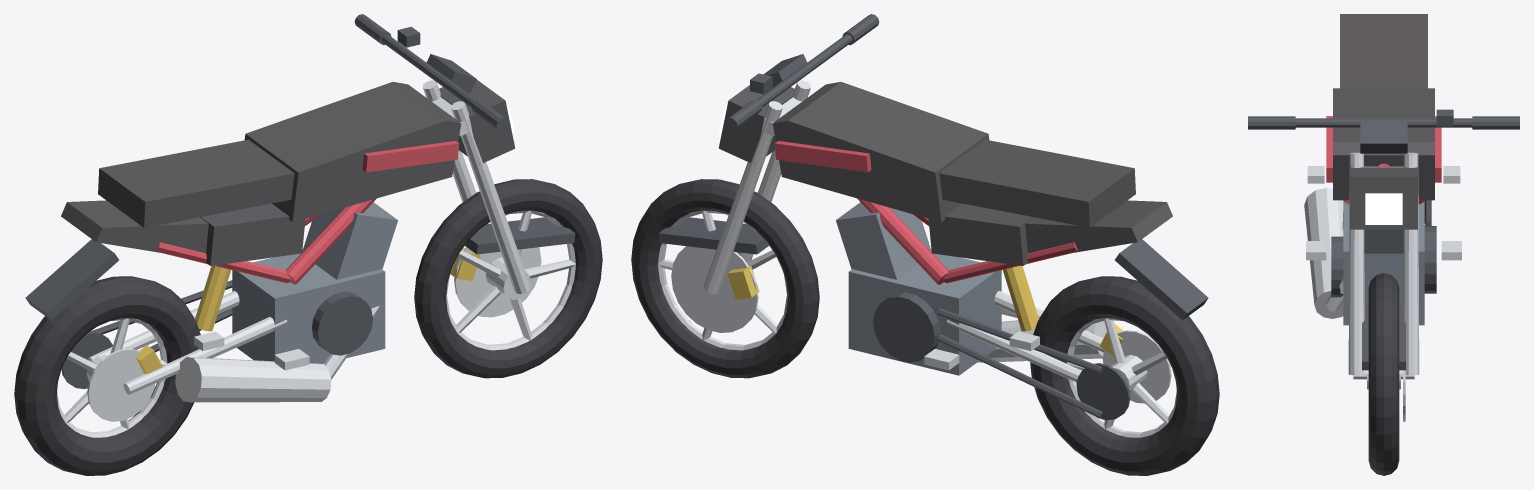
Rendered from honda-cb150r-streetfire-2021-2026.glb.
The picture shows the model from 3 angles, left to right: view 1: azimuth 30°, elevation 25°; view 2: azimuth 150°, elevation 25°; view 3: azimuth 270°, elevation 25°; orthographic projection. The views are drawn at different scales.
Visible parts, largest first — view 1: Roda_Ban, Bodi_Utama, Mesin_Blok, Jok_Motor, Velg_Roda, Knalpot, Piringan_Rem, Spakbor, Suspensi_Depan, Master_Rem_Stang, Rangka, Cover_Mesin (+7 smaller); view 2: Roda_Ban, Bodi_Utama, Mesin_Blok, Jok_Motor, Piringan_Rem, Velg_Roda, Spakbor, Rantai, Suspensi_Depan, Cover_Mesin, Rangka, Master_Rem_Stang (+7 smaller); view 3: Bodi_Utama, Jok_Motor, Roda_Ban, Suspensi_Depan, Master_Rem_Stang, Mesin_Blok, Knalpot, Bodi_Depan, Cover_Mesin, Footstep, Lampu_Depan, Spakbor (+1 smaller).
Boxes of the visible parts, x1,y1,x2,y2 form: Roda_Ban: [14, 179, 602, 475]; Bodi_Utama: [61, 82, 461, 265]; Mesin_Blok: [232, 202, 397, 363]; Jok_Motor: [98, 139, 294, 227]; Velg_Roda: [57, 210, 575, 437]; Knalpot: [175, 306, 379, 402]; Piringan_Rem: [87, 247, 541, 421]; Spakbor: [25, 217, 575, 320]; Suspensi_Depan: [423, 80, 530, 294]; Master_Rem_Stang: [354, 14, 508, 130]; Rangka: [156, 198, 376, 284]; Cover_Mesin: [311, 292, 372, 355]; Roda_Ban: [631, 179, 1219, 475]; Bodi_Utama: [772, 82, 1172, 265]; Mesin_Blok: [836, 202, 1001, 375]; Jok_Motor: [939, 139, 1135, 227]; Piringan_Rem: [671, 246, 1171, 403]; Velg_Roda: [658, 210, 1176, 437]; Spakbor: [658, 217, 1208, 320]; Rantai: [937, 308, 1130, 420]; Suspensi_Depan: [703, 80, 810, 294]; Cover_Mesin: [873, 292, 940, 362]; Rangka: [857, 198, 1077, 284]; Master_Rem_Stang: [725, 14, 879, 130]; Bodi_Utama: [1333, 88, 1434, 200]; Jok_Motor: [1340, 14, 1427, 88]; Roda_Ban: [1368, 273, 1399, 475]; Suspensi_Depan: [1348, 152, 1419, 379]; Master_Rem_Stang: [1248, 109, 1519, 153]; Mesin_Blok: [1343, 201, 1424, 325]; Knalpot: [1304, 188, 1343, 318]; Bodi_Depan: [1350, 167, 1417, 229]; Cover_Mesin: [1331, 226, 1436, 297]; Footstep: [1306, 166, 1461, 260]; Lampu_Depan: [1365, 193, 1402, 224]; Spakbor: [1362, 304, 1405, 370].
Size of the model in its own units: 1.9 by 1.05 by 0.8.
